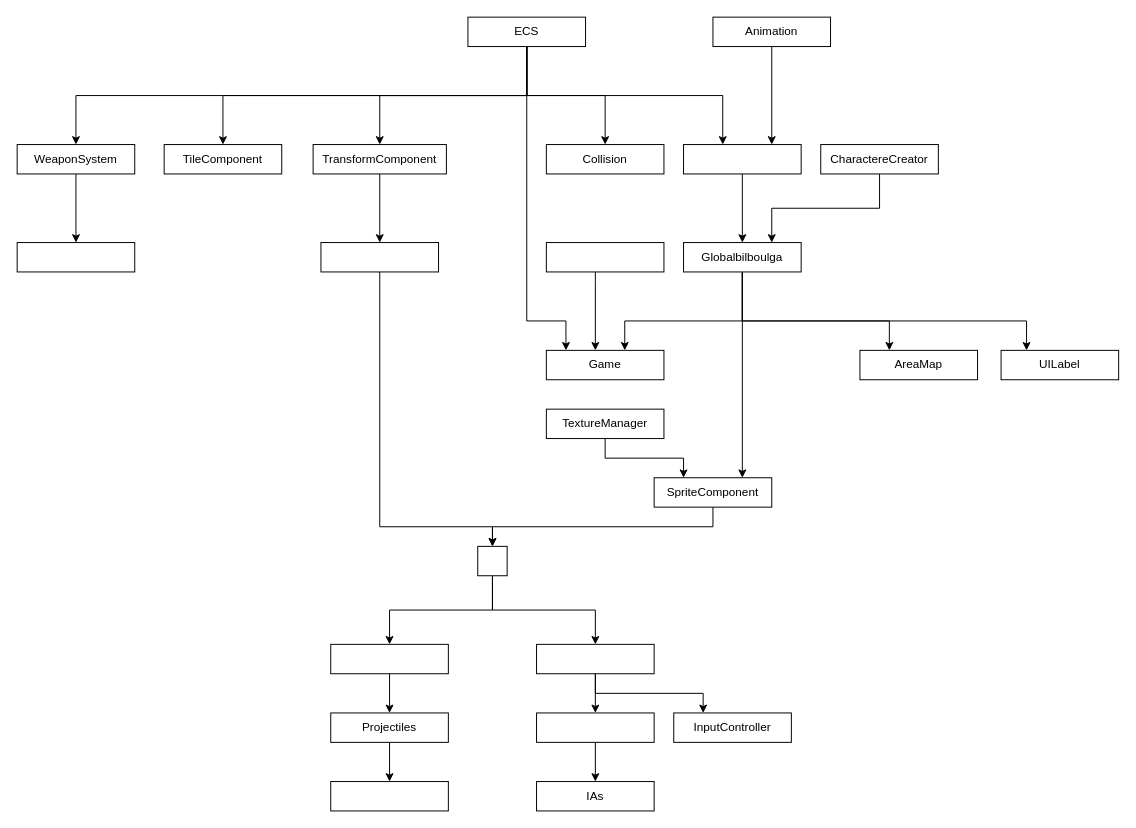
Image size: 1136x828. Some labels were removed from this diagram. The centre of each missing label's shape, as x and y in pixels:
ActionsComponent: point (595, 658)
Area: point (604, 257)
AssetManager: point (742, 159)
ColliderComponent: point (379, 257)
IASystem: point (595, 727)
ProjectilesCreator: point (389, 796)
ProjectileSystem: point (389, 658)
Weapons: point (75, 257)
